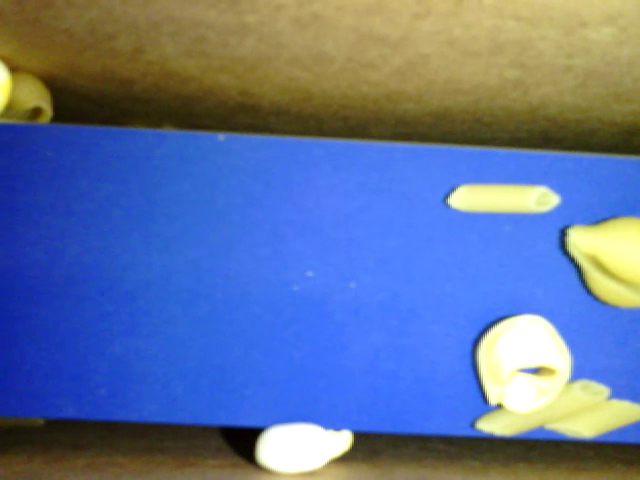penne: (466, 377, 614, 436), (542, 397, 639, 442), (445, 182, 562, 216)
shell: (563, 212, 639, 311), (2, 69, 53, 127)
tortellini: (471, 312, 575, 412)
